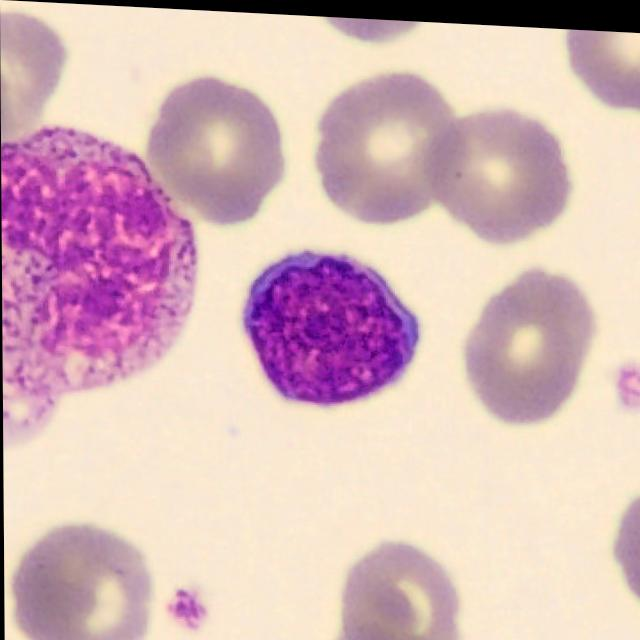Linfocito: (242, 246, 420, 403)
